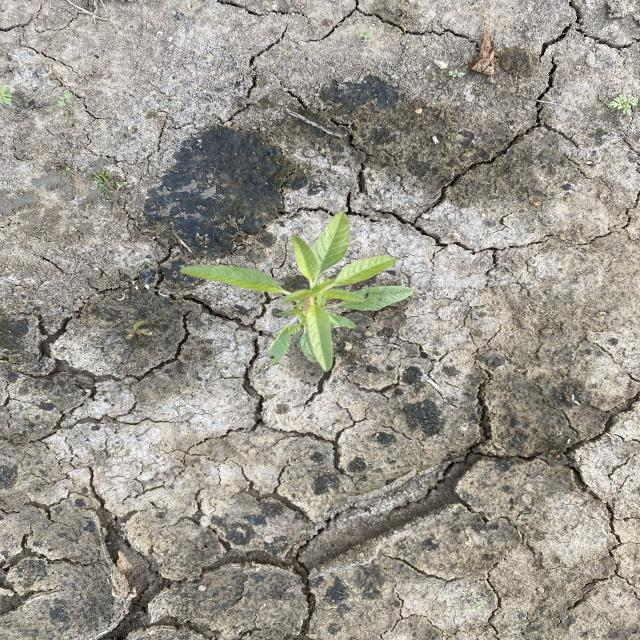Waterhemp: (176, 210, 415, 373)
